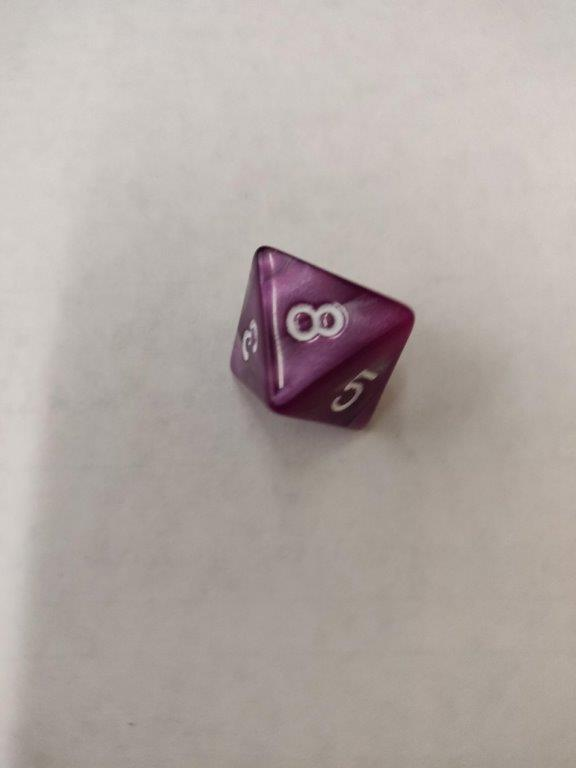d8-8: (229, 245, 414, 434)
